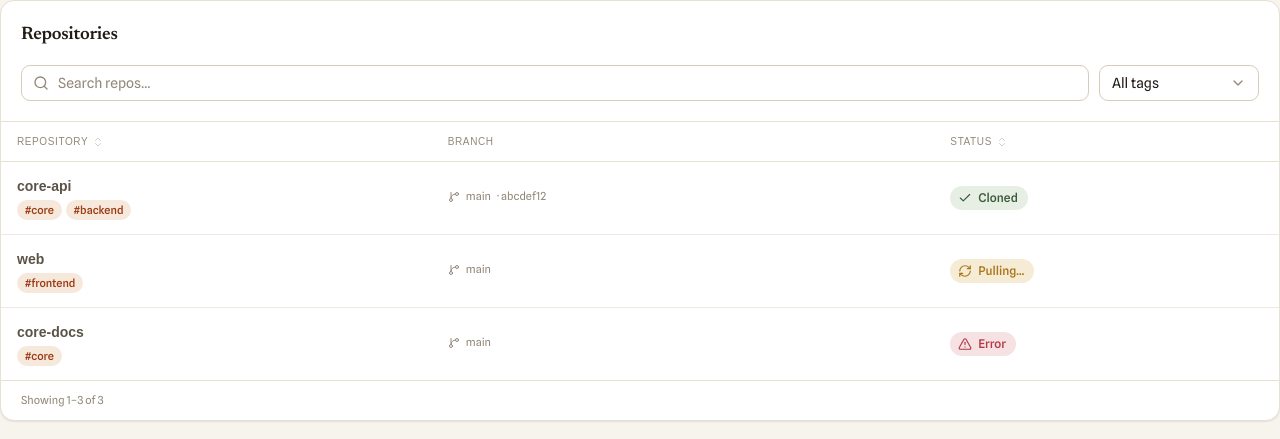
Scenario: WorkspaceClient filter island (Flow E) › search="api" narrows to core-api only
Type "api" into the search field labelled "Search repos" at (555, 83), box [21,65,1089,101]
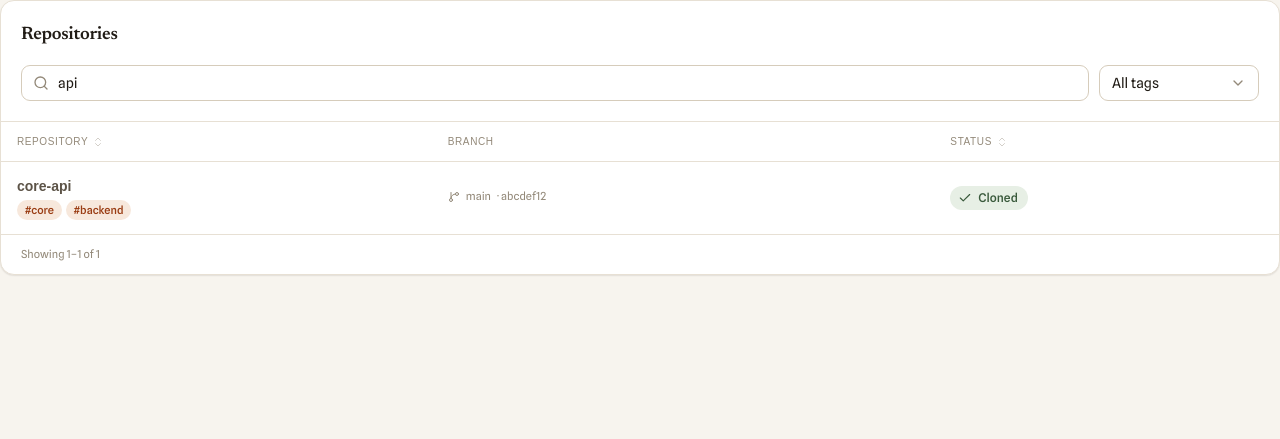
Check: the text "core-api" is shown, box [17,178,72,194]
Check: the text "web" is gone
Check: the text "core-docs" is gone
